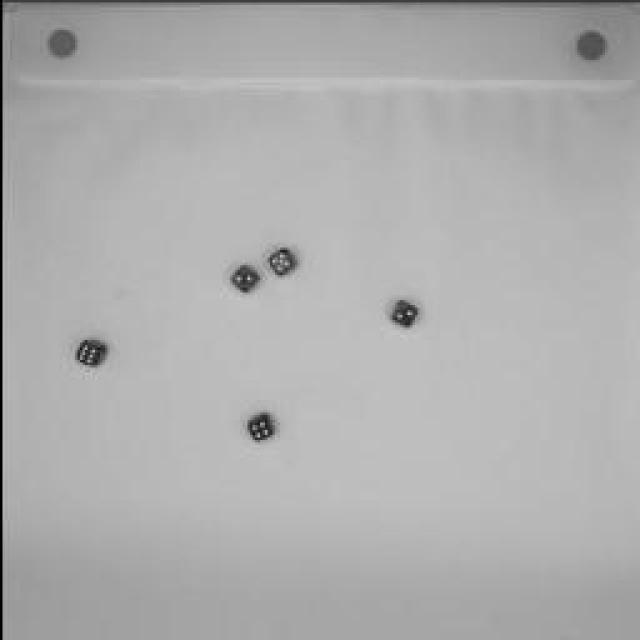dice_2: (222, 258, 260, 298), (385, 294, 420, 328)
dice_4: (237, 410, 275, 448)
dice_5: (259, 240, 301, 280)
dice_6: (68, 332, 110, 372)
